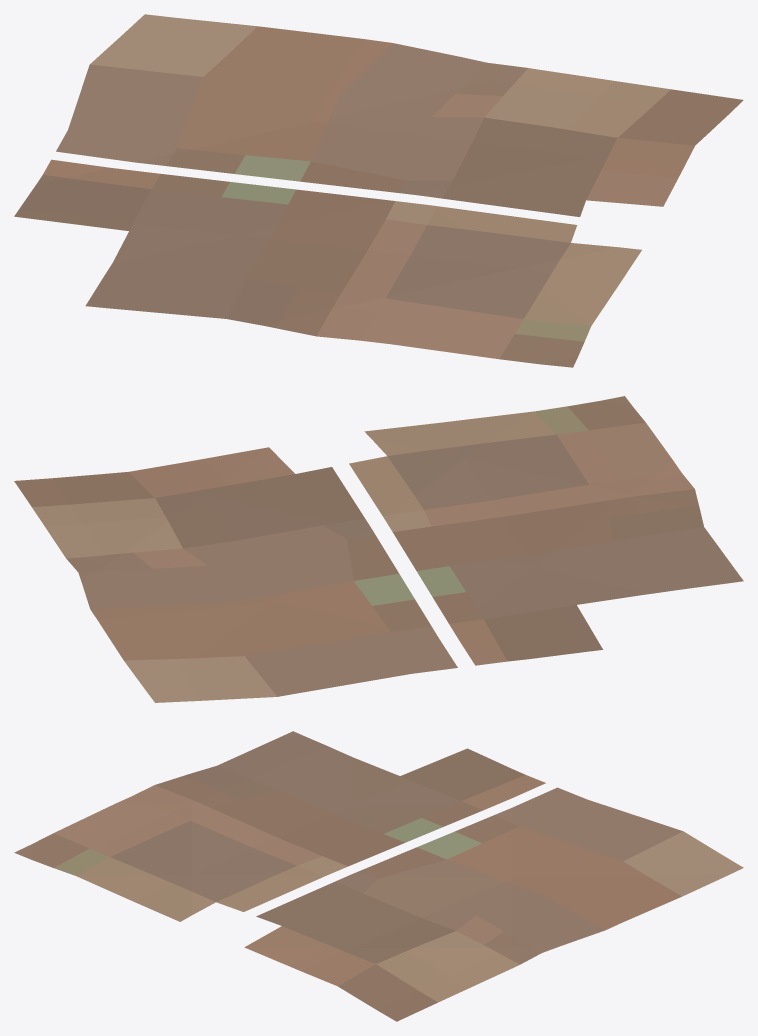
Rendered from farm_6_19_soil.glb.
3 renders of one model, top to bottom at view 1: azimuth 30°, elevation 25°; view 2: azimuth 150°, elevation 25°; view 3: azimuth 270°, elevation 25°, orthographic. The views are drawn at different scales.
Visible parts, largest first — view 1: geometry_0; view 2: geometry_0; view 3: geometry_0.
Part boxes in pixels (bbox=[...]): geometry_0: bbox=[14, 14, 743, 367]; geometry_0: bbox=[14, 396, 743, 702]; geometry_0: bbox=[14, 731, 743, 1021].
Size of the model in its own units: 325 by 8.68 by 364.
